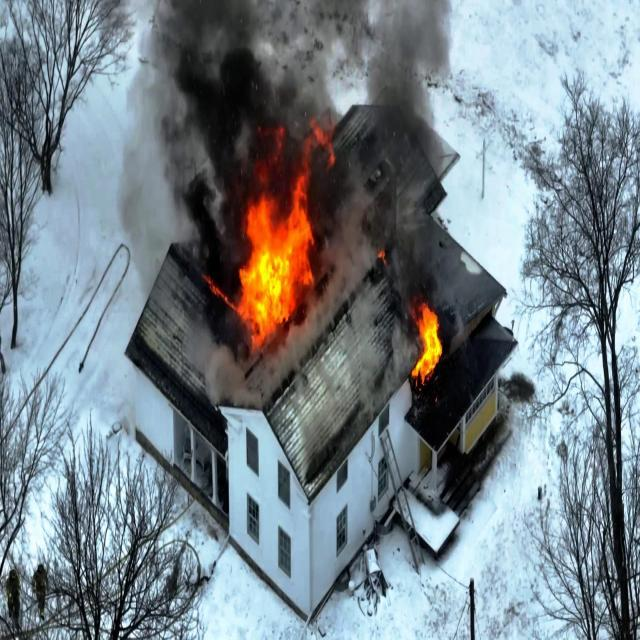Fire: (235, 121, 338, 357), (408, 304, 448, 385), (200, 270, 236, 314)
Smoke: (144, 0, 463, 120), (124, 128, 234, 252)
